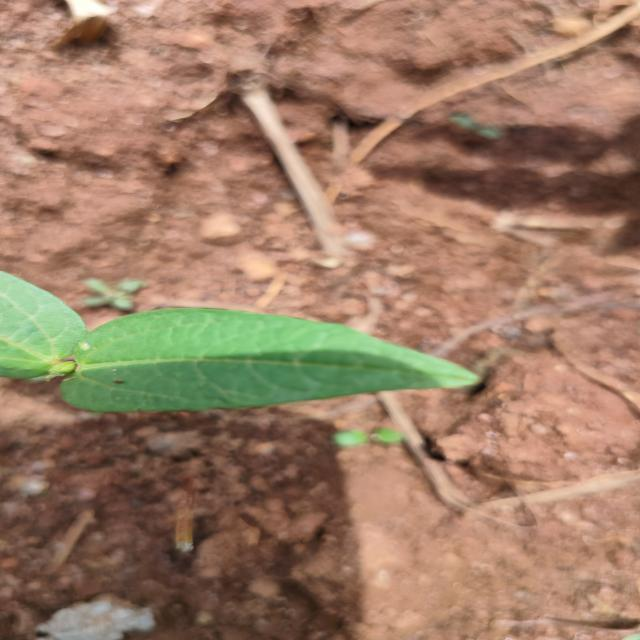Black gram_healthy: (0, 265, 494, 426)
